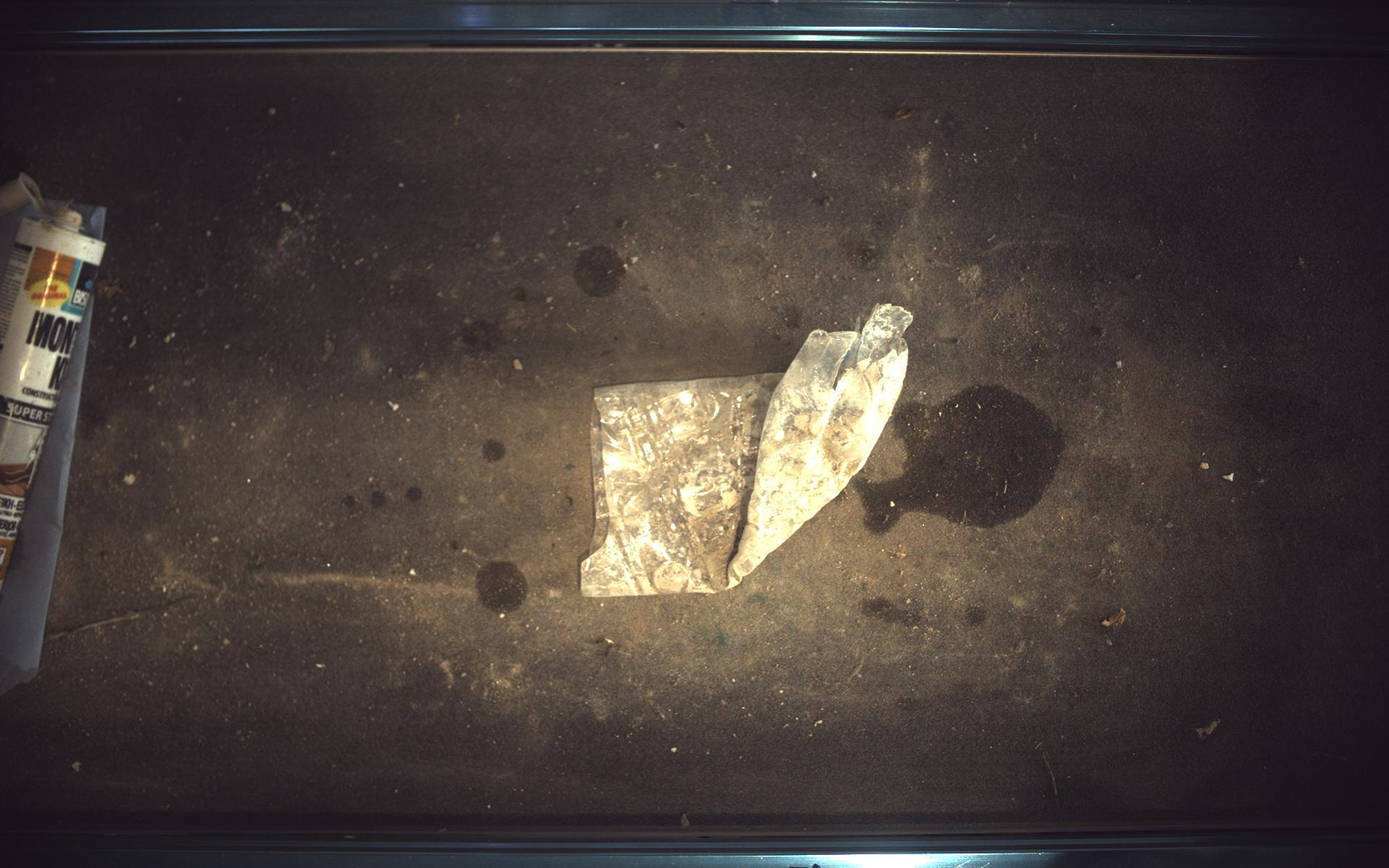general_w: (581, 304, 914, 598)
plastic: (2, 174, 106, 592)
